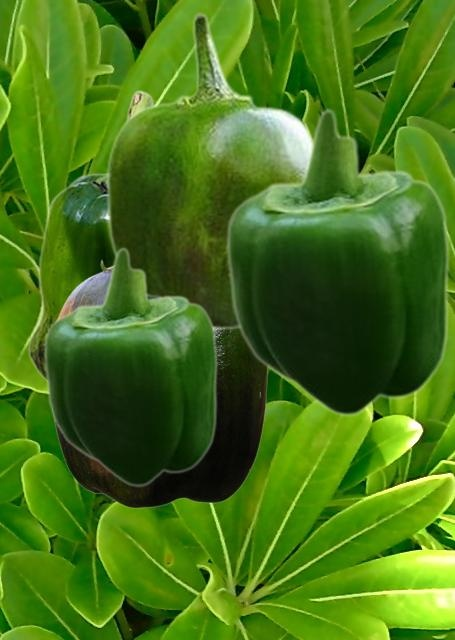bell_pepper: (225, 107, 449, 417), (105, 12, 312, 330), (54, 259, 268, 507), (43, 246, 217, 487), (27, 89, 156, 380)
